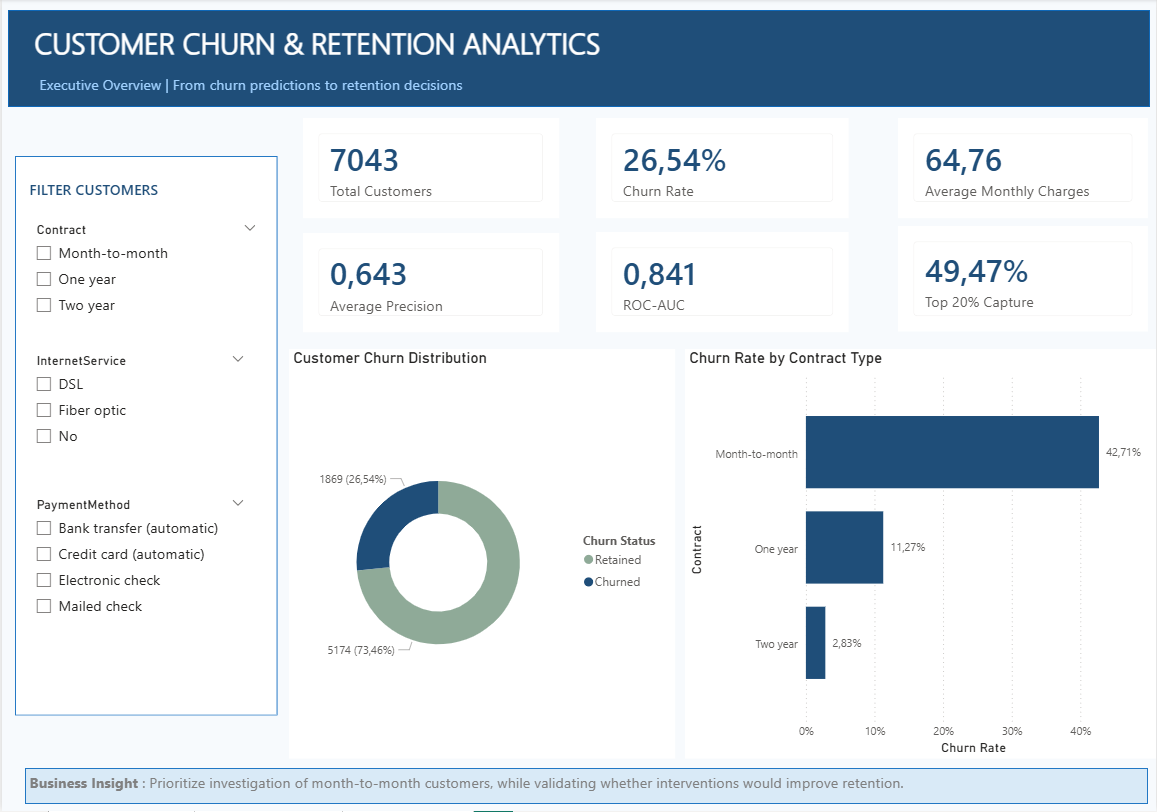

Layout of this report page (visuals, bound fields, positions):
{"tool":"powerbi","page":{"name":"Executive Overview","canvas":[1280,900],"ordinal":0},"visuals":[{"type":"shape","box":[14.4,174,291,620.3],"z":0,"group":"g1"},{"type":"shape","box":[25.5,852.3,1244.7,39.9],"z":0,"group":"g3"},{"type":"shape","box":[6.7,12.2,1265.8,107.5],"z":1000,"group":"g2"},{"type":"cardVisual","fields":{"Data":["CrossValidation.Total Customers"]},"box":[333.6,131.9,283.7,110.8],"z":1000},{"type":"cardVisual","fields":{"Data":["CrossValidation.Churn Rate"]},"box":[658.4,131.9,280.4,110.8],"z":2000},{"type":"cardVisual","fields":{"Data":["CrossValidation.ROC-AUC"]},"box":[658.4,258.3,280.4,110.8],"z":3000},{"type":"cardVisual","fields":{"Data":["CrossValidation.Average Monthly Charges"]},"box":[993.1,131.9,277.1,110.8],"z":4000},{"type":"cardVisual","fields":{"Data":["CrossValidation.Average Precision"]},"box":[333.6,259.4,283.7,109.7],"z":5000},{"type":"cardVisual","fields":{"Data":["CrossValidation.Top 20% Capture"]},"box":[993.1,251.6,277.1,117.5],"z":6000},{"type":"donutChart","title":"Customer Churn Distribution","fields":{"Y":["CrossValidation.Total Customers"],"Category":["Customers.Churn Status"]},"box":[318.1,387.9,427.8,454.4],"z":7000},{"type":"clusteredBarChart","title":"Churn Rate by Contract Type","fields":{"Category":["Customers.Contract"],"Y":["CrossValidation.Churn Rate"]},"box":[757,387.9,523.2,454.4],"z":8000},{"type":"group","id":"g1","title":"Group 1","box":[14.4,174,291.5,620.7],"z":9000},{"type":"group","id":"g2","title":"Group 2","box":[6.7,12.2,1265.8,107.5],"z":10000},{"type":"slicer","fields":{"Values":["Customers.Contract"]},"box":[25.7,242.8,268.4,126.3],"z":10000,"group":"g1"},{"type":"slicer","fields":{"Values":["Customers.InternetService"]},"box":[25.7,388.3,254.9,130.8],"z":11000,"group":"g1"},{"type":"textbox","box":[25.5,852.3,1234.7,39.9],"z":11000,"group":"g3"},{"type":"group","id":"g3","title":"Group 3","box":[25.5,852.3,1244.7,39.9],"z":11001},{"type":"slicer","fields":{"Values":["Customers.PaymentMethod"]},"box":[25.7,547.3,254.9,153.4],"z":12000,"group":"g1"},{"type":"textbox","box":[36.6,78.7,547.5,41],"z":13000,"group":"g2"},{"type":"textbox","box":[31.1,21.1,1186,53.2],"z":14000,"group":"g2"},{"type":"textbox","box":[25.7,195.4,233.4,42.9],"z":15000,"group":"g1"}]}

Visuals, with their boxes in screenshot pixels (x1, y1, x2, y2), scaled from the page's 1280x900 canvas onto the 1157x812 screenshot:
shape: 13 157 276 717
shape: 23 769 1148 805
shape: 6 11 1150 108
cardVisual - CrossValidation.Total Customers: 302 119 558 219
cardVisual - CrossValidation.Churn Rate: 595 119 849 219
cardVisual - CrossValidation.ROC-AUC: 595 233 849 333
cardVisual - CrossValidation.Average Monthly Charges: 898 119 1148 219
cardVisual - CrossValidation.Average Precision: 302 234 558 333
cardVisual - CrossValidation.Top 20% Capture: 898 227 1148 333
"Customer Churn Distribution" donutChart: 288 350 674 760
"Churn Rate by Contract Type" clusteredBarChart: 684 350 1156 760
"Group 1" group: 13 157 277 717
"Group 2" group: 6 11 1150 108
slicer - Customers.Contract: 23 219 266 333
slicer - Customers.InternetService: 23 350 254 468
textbox: 23 769 1139 805
"Group 3" group: 23 769 1148 805
slicer - Customers.PaymentMethod: 23 494 254 632
textbox: 33 71 528 108
textbox: 28 19 1100 67
textbox: 23 176 234 215
